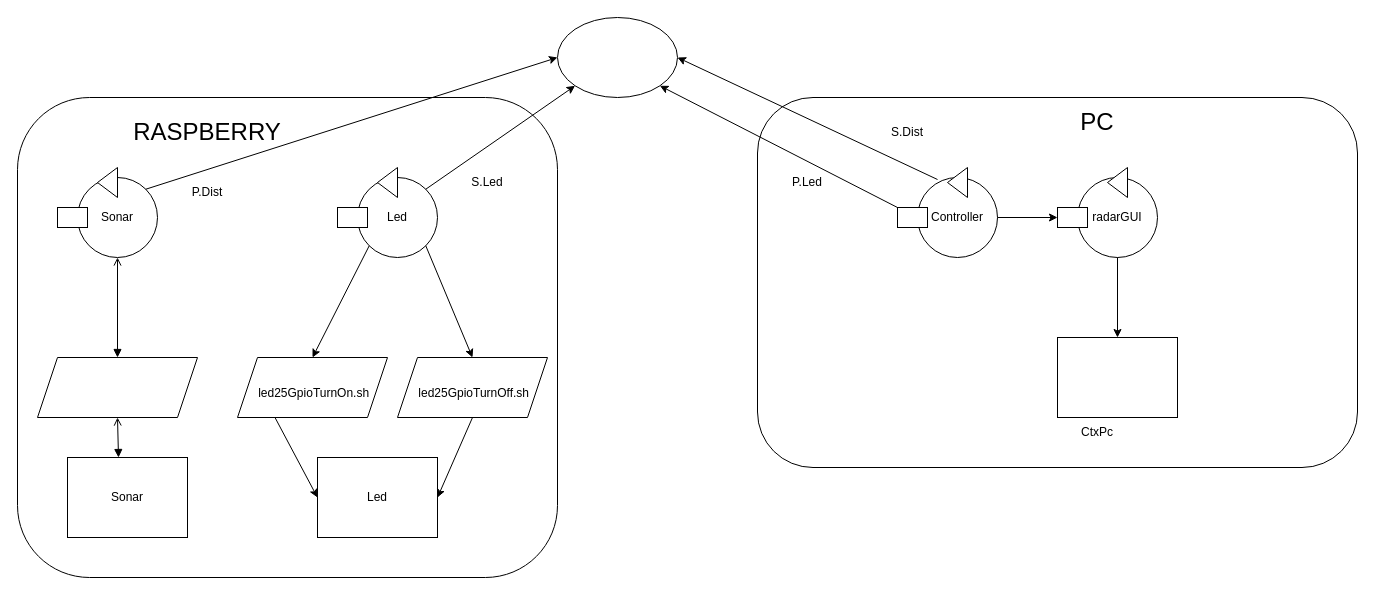
Image size: 1375x595. Some labels were removed from this diagram. Each missing label, with the box of its shape:
MqttBrocker hivemq: (556, 16, 678, 98)
RadarPojo: (1056, 336, 1178, 418)
Sonar.c: (36, 356, 198, 418)
